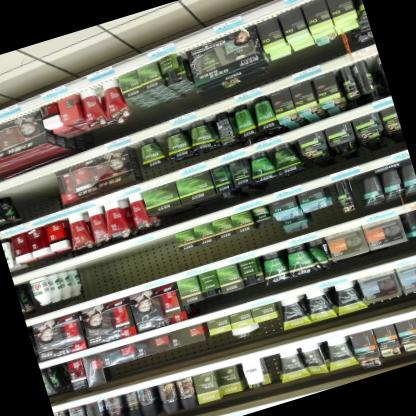empty_space: (0, 171, 65, 226), (152, 234, 184, 277), (131, 240, 162, 284), (53, 265, 84, 307), (111, 247, 140, 290), (74, 259, 103, 301), (93, 253, 120, 295)
